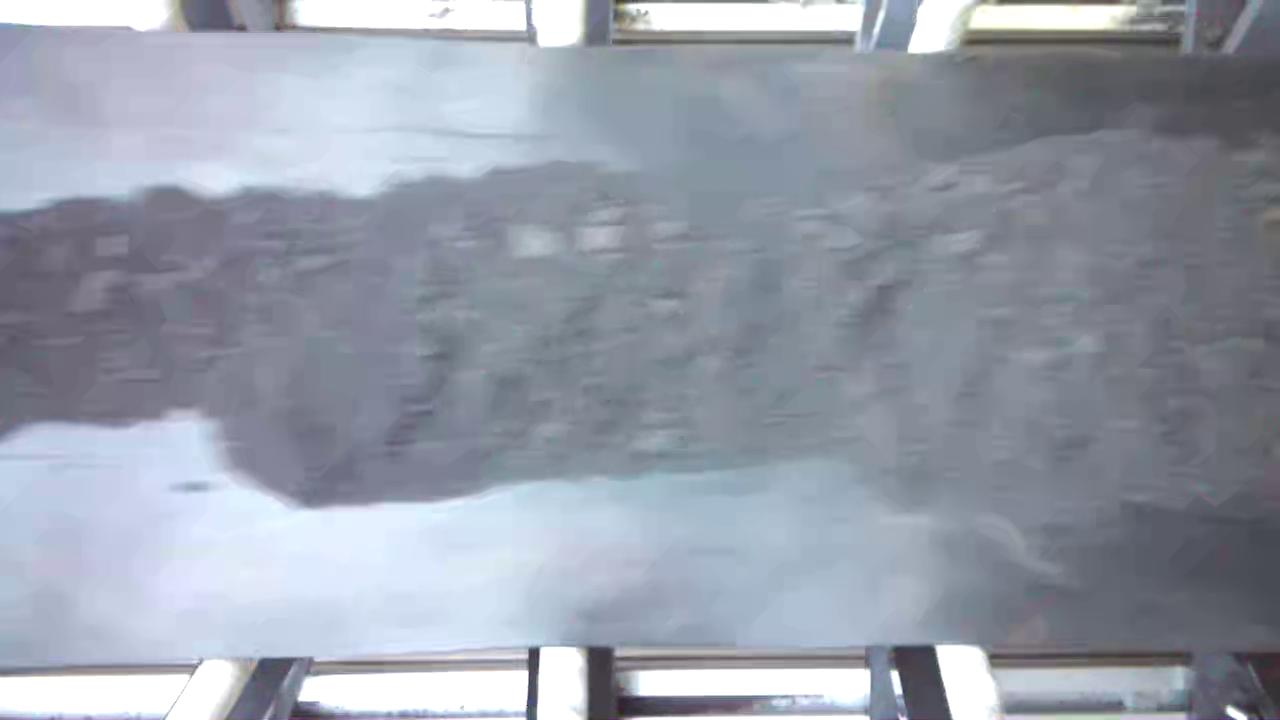conveyor: (3, 57, 1280, 638)
